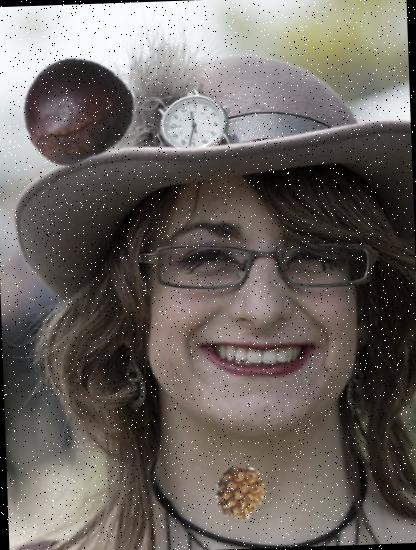Chestnut: (19, 49, 136, 166)
Pineapple: (210, 464, 270, 523)
